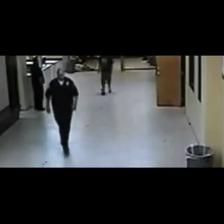person: (46, 69, 79, 156), (31, 57, 44, 111), (98, 56, 113, 95)
